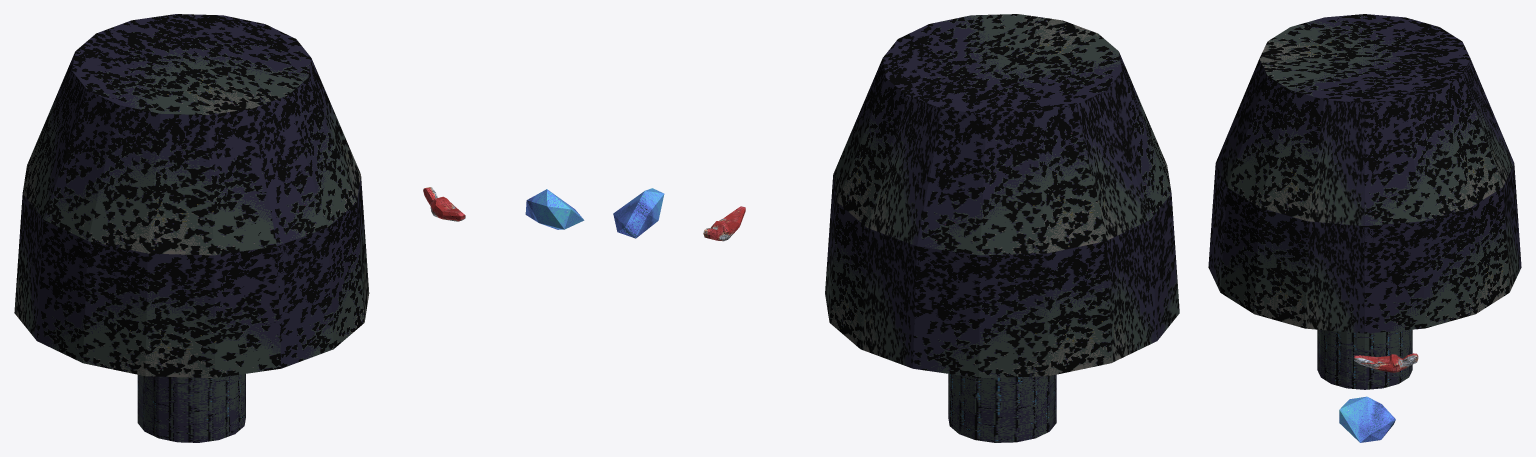
The model's file is la silla y la pared.fbx.
3 views of the same model, side by side, from view 1: azimuth 30°, elevation 25°; view 2: azimuth 150°, elevation 25°; view 3: azimuth 270°, elevation 25° (orthographic). The views are drawn at different scales.
Visible parts, largest first — view 1: Cylinder, Icosphere, Plane; view 2: Cylinder, Icosphere, Plane; view 3: Cylinder, Icosphere, Plane.
Part boxes in pixels (bbox=[...]): Cylinder: bbox=[14, 14, 369, 442]; Icosphere: bbox=[525, 189, 584, 229]; Plane: bbox=[423, 187, 465, 221]; Cylinder: bbox=[825, 14, 1179, 442]; Icosphere: bbox=[613, 188, 664, 238]; Plane: bbox=[703, 206, 745, 241]; Cylinder: bbox=[1208, 14, 1521, 389]; Icosphere: bbox=[1339, 396, 1395, 442]; Plane: bbox=[1354, 353, 1418, 372].
Bounding box in the file's own units: 5004 × 3120 × 2846.
